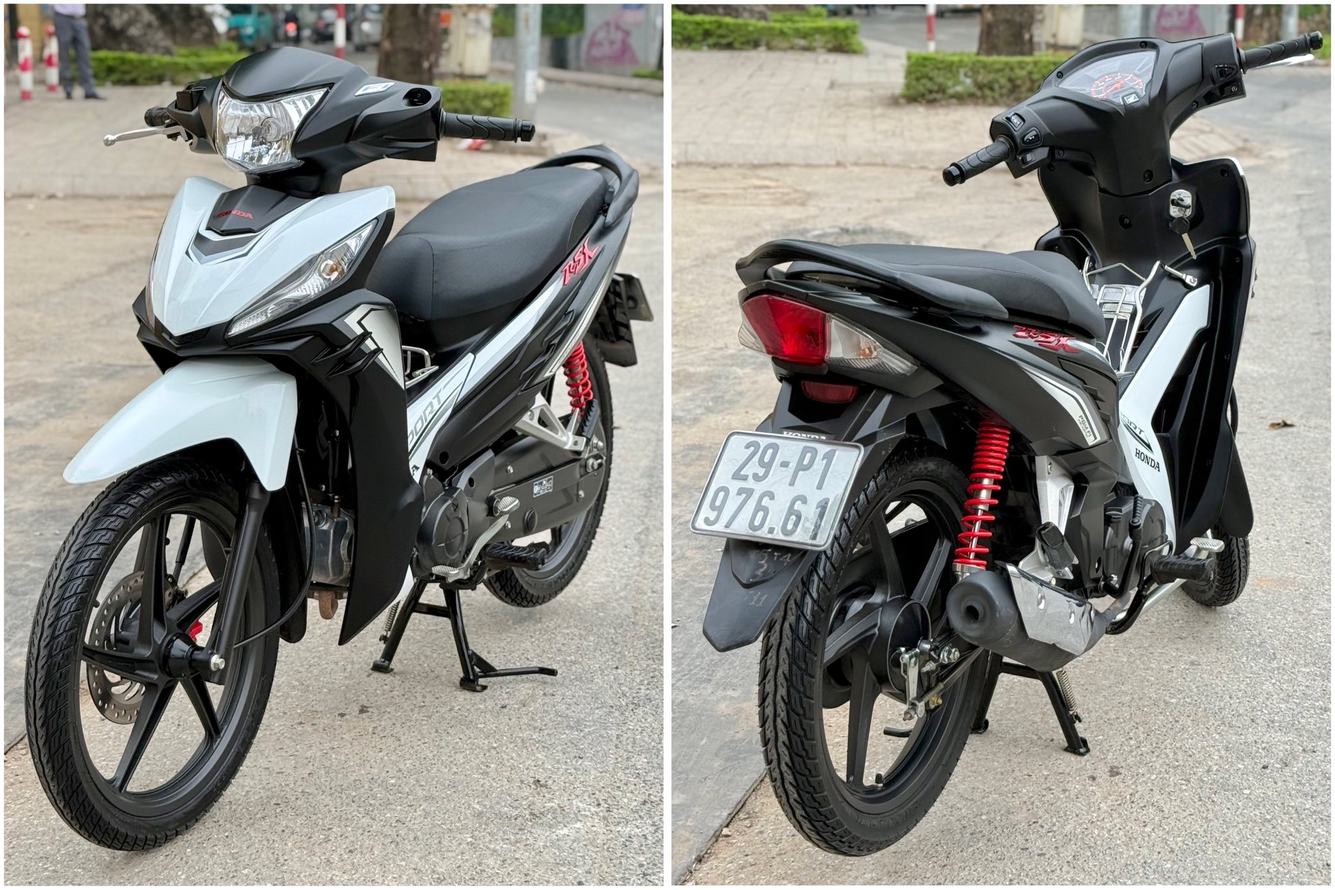bien_so: (689, 421, 869, 560)
